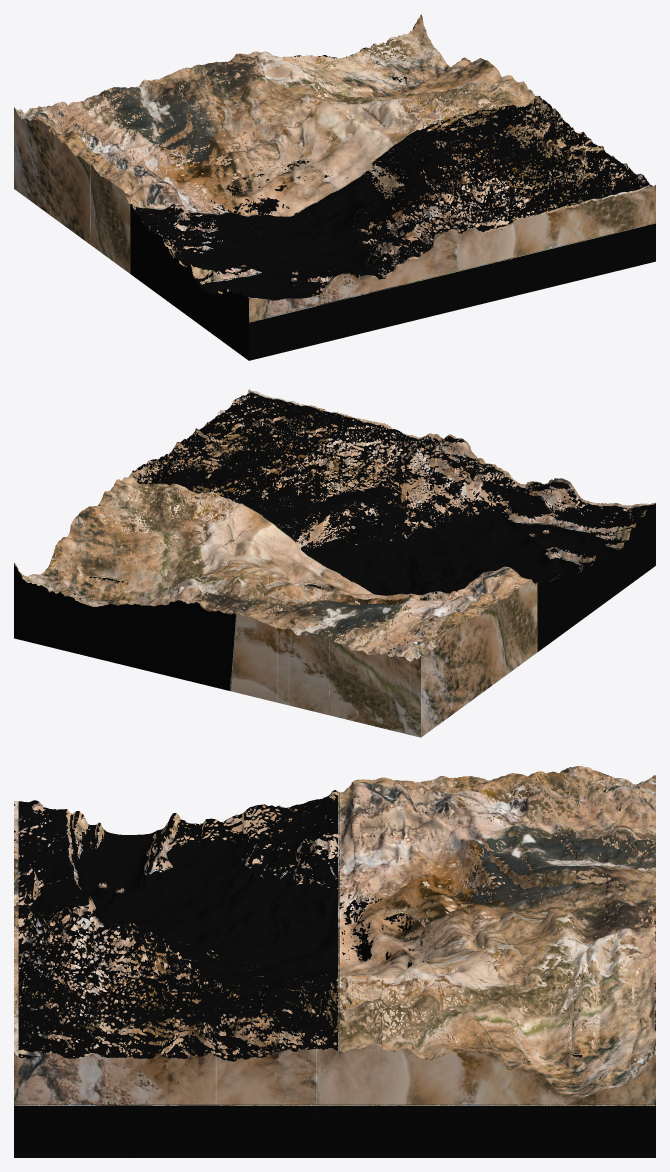
Rendered from lasttry4-transformed.glb.
The picture shows the model from 3 angles, top to bottom: view 1: azimuth 30°, elevation 25°; view 2: azimuth 150°, elevation 25°; view 3: azimuth 270°, elevation 25°; orthographic projection. The views are drawn at different scales.
Parts seen in each view (by area): view 1: SynthLandSCape.002_SynthLandSCape.001; view 2: SynthLandSCape.002_SynthLandSCape.001; view 3: SynthLandSCape.002_SynthLandSCape.001.
Part boxes in pixels (bbox=[...]): SynthLandSCape.002_SynthLandSCape.001: bbox=[14, 14, 655, 360]; SynthLandSCape.002_SynthLandSCape.001: bbox=[14, 389, 655, 737]; SynthLandSCape.002_SynthLandSCape.001: bbox=[14, 766, 655, 1157].
Size of the model in its own units: 1036 by 215 by 1036.
Materials: 1 (1 with a texture image).
